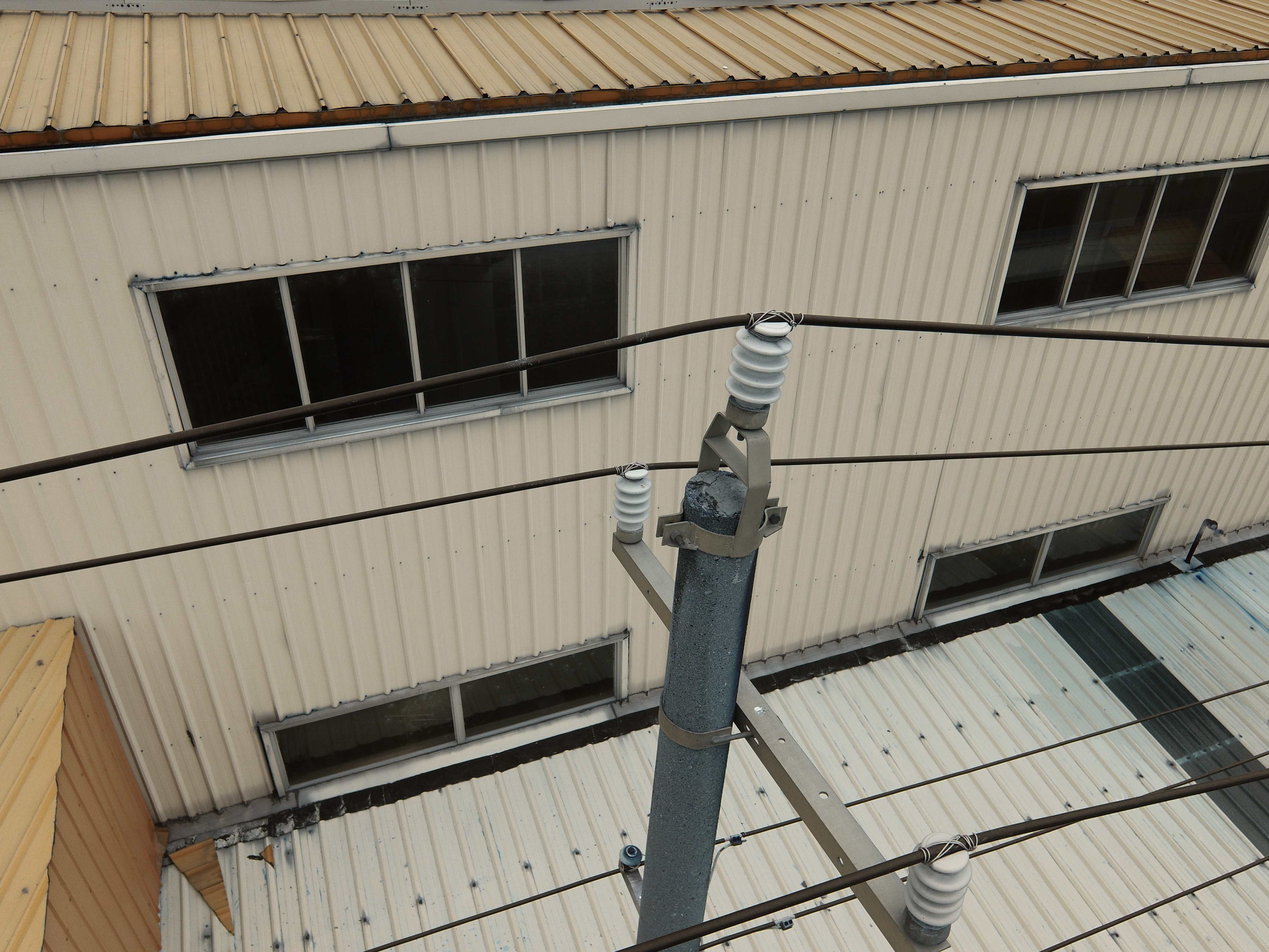severe_soiling_no_discharge_whole: (616, 842, 645, 873)
